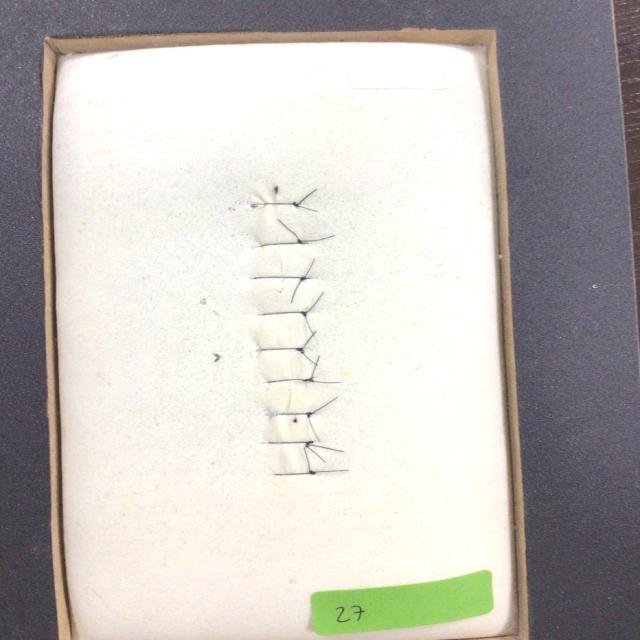knot: (295, 237, 311, 247), (302, 439, 316, 450), (300, 375, 317, 384), (293, 346, 307, 356), (298, 309, 311, 319), (302, 410, 316, 419), (306, 468, 319, 477), (290, 200, 302, 209), (298, 275, 309, 283)
leftover: (275, 217, 302, 243), (301, 290, 325, 316), (310, 395, 340, 415), (294, 187, 318, 207), (306, 412, 321, 443), (289, 277, 305, 304), (299, 329, 318, 351), (305, 445, 327, 464), (305, 443, 346, 453), (301, 256, 317, 280), (298, 233, 336, 243), (308, 354, 321, 381), (303, 314, 316, 338), (302, 446, 313, 474), (301, 351, 320, 367), (310, 468, 351, 474), (296, 204, 319, 213), (311, 379, 343, 384)
stitch: (258, 238, 302, 248), (259, 347, 305, 355), (266, 440, 311, 448), (251, 275, 306, 281), (261, 310, 307, 317), (249, 202, 301, 208), (265, 378, 315, 384), (273, 470, 315, 476), (278, 411, 314, 415)
wound: (271, 180, 304, 477)
